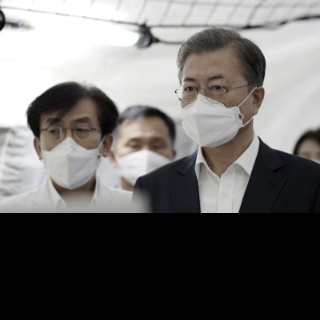with_mask: (179, 73, 247, 148), (40, 115, 102, 191), (117, 135, 173, 186)
